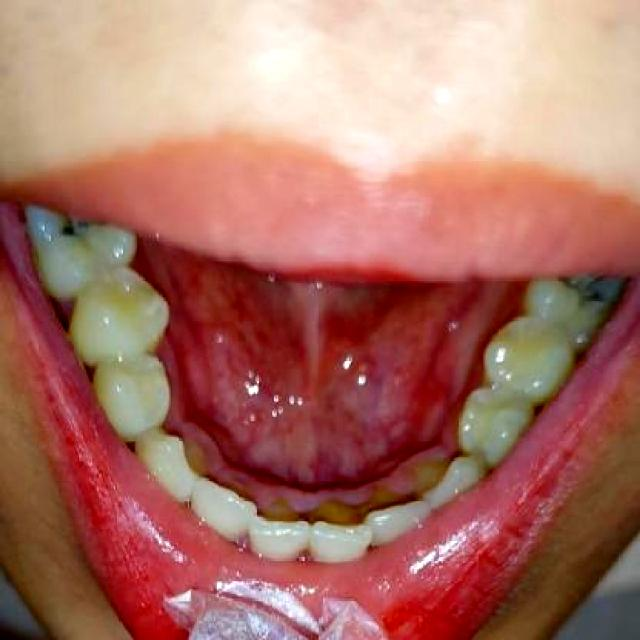Plaque: (555, 277, 623, 308), (49, 223, 102, 252)
